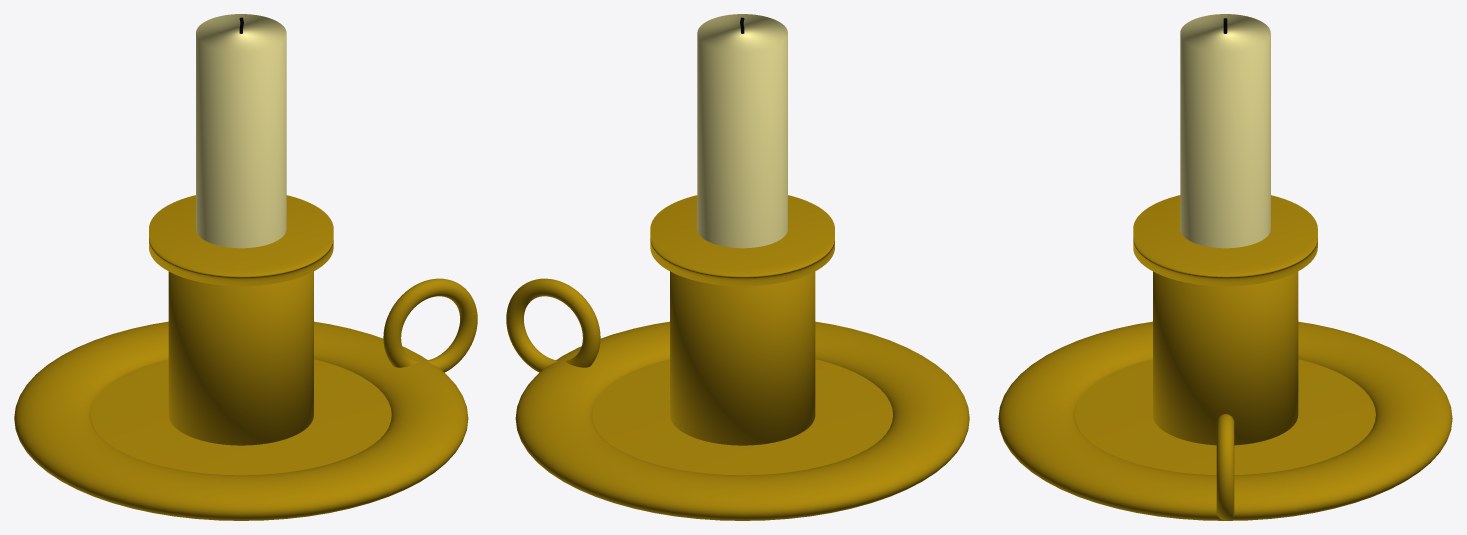
File: CandleStick.fbx
3 renders of one model, left to right at view 1: azimuth 30°, elevation 25°; view 2: azimuth 150°, elevation 25°; view 3: azimuth 270°, elevation 25°, orthographic.
Visible parts, largest first — view 1: Torus, Cylinder_002, Cylinder, Cylinder_001, Cylinder_003, Torus_002; view 2: Torus, Cylinder_002, Cylinder, Cylinder_001, Cylinder_003, Torus_002; view 3: Torus, Cylinder_002, Cylinder, Cylinder_001, Cylinder_003, Torus_002.
Boxes of the visible parts, bbox=[...] form: Torus: bbox=[14, 321, 468, 520]; Cylinder_002: bbox=[168, 271, 313, 445]; Cylinder: bbox=[196, 14, 286, 248]; Cylinder_001: bbox=[91, 359, 391, 475]; Cylinder_003: bbox=[149, 195, 333, 286]; Torus_002: bbox=[383, 278, 477, 372]; Torus: bbox=[515, 321, 969, 520]; Cylinder_002: bbox=[670, 271, 815, 445]; Cylinder: bbox=[697, 14, 787, 248]; Cylinder_001: bbox=[592, 359, 892, 475]; Cylinder_003: bbox=[650, 195, 834, 286]; Torus_002: bbox=[506, 278, 600, 372]; Torus: bbox=[998, 321, 1452, 520]; Cylinder_002: bbox=[1153, 271, 1298, 445]; Cylinder: bbox=[1180, 14, 1270, 248]; Cylinder_001: bbox=[1075, 359, 1375, 474]; Cylinder_003: bbox=[1133, 195, 1317, 286]; Torus_002: bbox=[1216, 414, 1234, 520].
Size of what is drawn, in the model's own units: 5.9 by 5.44 by 5.38.
